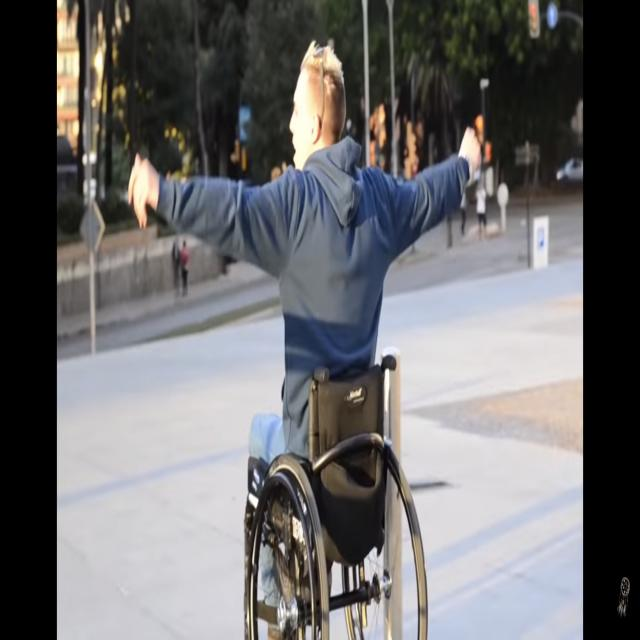wheelchairs: (243, 351, 429, 640)
